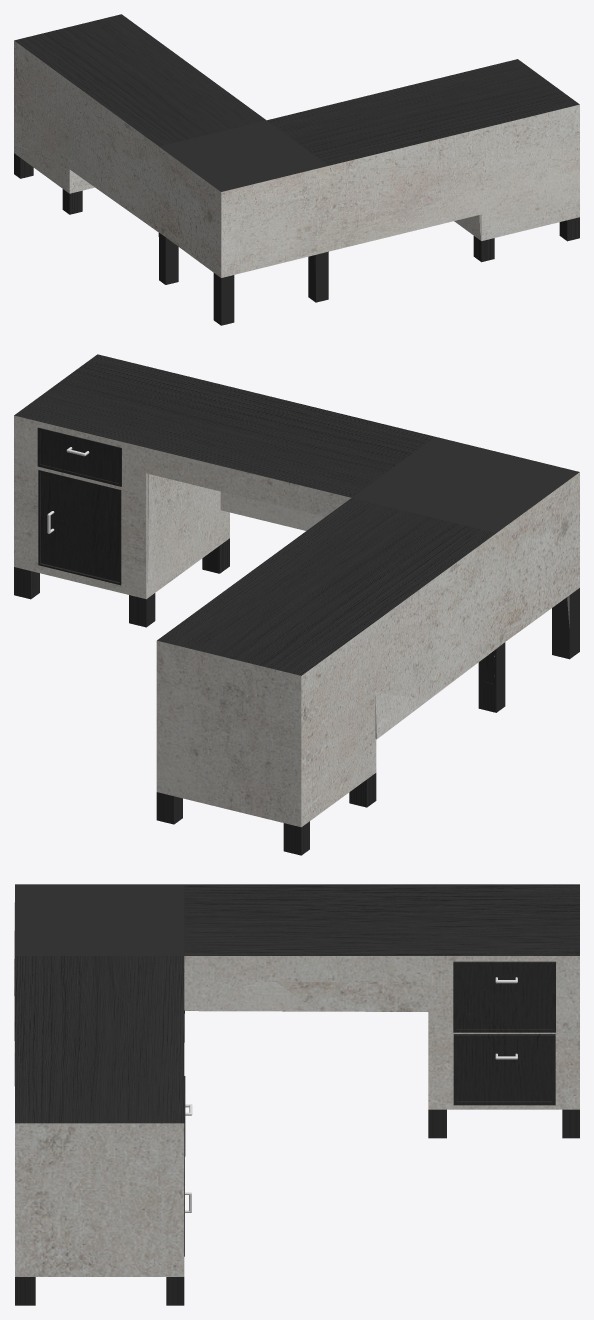
File: Table.fbx
3 renders of one model, top to bottom at view 1: azimuth 30°, elevation 25°; view 2: azimuth 150°, elevation 25°; view 3: azimuth 270°, elevation 25°, orthographic. The views are drawn at different scales.
Parts seen in each view (by area): view 1: Table, Table.002, Table.001; view 2: Table, Table.002, VaultDoor, Table.001, Drawer1; view 3: Table.002, Table, Drawer3, Drawer2, Table.001.
Part boxes in pixels (<box>): Table: <box>14,40,579,277</box>; Table.002: <box>14,14,579,191</box>; Table.001: <box>14,153,579,325</box>; Table: <box>14,415,579,827</box>; Table.002: <box>14,354,579,675</box>; VaultDoor: <box>38,470,121,585</box>; Table.001: <box>14,538,579,855</box>; Drawer1: <box>37,427,121,486</box>; Table.002: <box>15,884,579,1123</box>; Table: <box>14,902,579,1276</box>; Drawer3: <box>453,961,555,1034</box>; Drawer2: <box>453,1034,555,1105</box>; Table.001: <box>15,1010,579,1305</box>.
Size of the model in its own units: 401 by 142 by 401.
